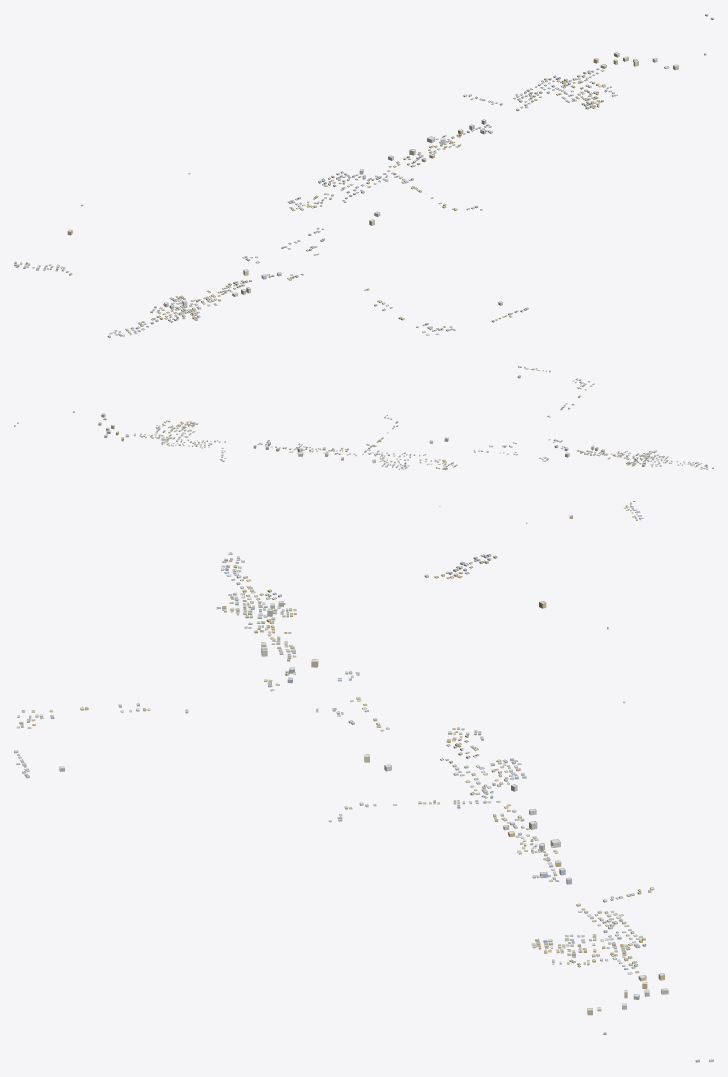
3 views of the same model, one above another, from view 1: azimuth 30°, elevation 25°; view 2: azimuth 150°, elevation 25°; view 3: azimuth 270°, elevation 25° (orthographic). The views are drawn at different scales.
Visible parts, largest first — view 1: house, roof_zinc, apartment; view 2: house, roof_zinc, apartment; view 3: house, roof_zinc, apartment.
Part boxes in pixels (bbox=[...]): house: bbox=[14, 14, 713, 337]; roof_zinc: bbox=[14, 14, 713, 336]; apartment: bbox=[67, 52, 678, 308]; house: bbox=[14, 366, 713, 523]; roof_zinc: bbox=[14, 366, 713, 519]; apartment: bbox=[98, 375, 645, 518]; house: bbox=[14, 552, 713, 1062]; roof_zinc: bbox=[14, 552, 713, 1060]; apartment: bbox=[59, 601, 668, 1015].
Size of the model in its own units: 1.39e+08 by 740084 by 8.1e+07.
